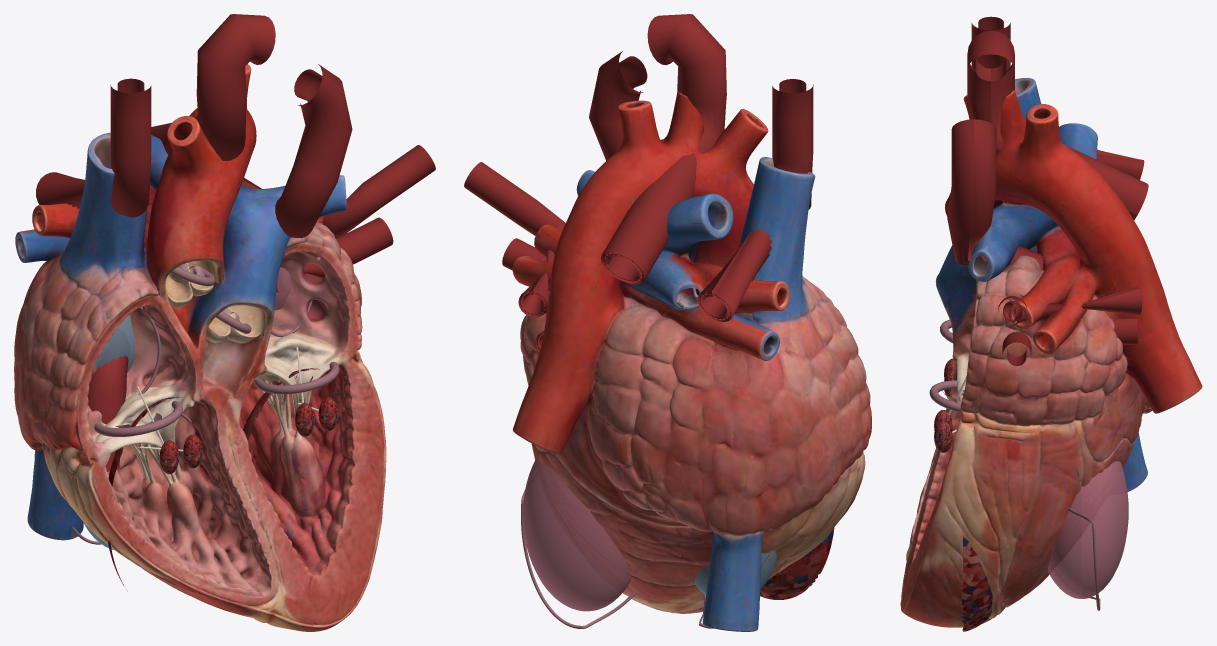
Rendered from heart_segmented_aortic_leaky.glb.
3 views of the same model, side by side, from view 1: azimuth 30°, elevation 25°; view 2: azimuth 150°, elevation 25°; view 3: azimuth 270°, elevation 25° (orthographic). The views are drawn at different scales.
Parts seen in each view (by area): view 1: HeartBody, PulmonaryTrunk, Aorta, SVC, PulmonaryVeinL, IVC, PulmonaryVeinR, BloodRA, AnnulusTricuspid, AnnulusMitral; view 2: HeartBody, Aorta, BloodLV, SVC, PulmonaryVeinL, PulmonaryTrunk, WallRV, CavityLipLV, PulmonaryVeinR, BloodRV; view 3: HeartBody, BloodLV, PulmonaryTrunk, Aorta, WallLV, PulmonaryVeinL, SVC, PulmonaryVeinR, AnnulusMitral, PapillaryMitral2, CavityLipLV.
Boxes of the visible parts, left/top/right/bottom form: HeartBody: left=14, top=64, right=386, bottom=631; PulmonaryTrunk: left=275, top=64, right=352, bottom=237; Aorta: left=151, top=14, right=275, bottom=160; SVC: left=36, top=78, right=151, bottom=217; PulmonaryVeinL: left=242, top=145, right=435, bottom=236; IVC: left=87, top=329, right=129, bottom=471; PulmonaryVeinR: left=276, top=217, right=393, bottom=292; BloodRA: left=95, top=315, right=134, bottom=372; AnnulusTricuspid: left=94, top=401, right=182, bottom=436; AnnulusMitral: left=254, top=361, right=339, bottom=394; HeartBody: left=512, top=91, right=871, bottom=631; Aorta: left=601, top=14, right=726, bottom=284; BloodLV: left=523, top=458, right=631, bottom=611; SVC: left=697, top=79, right=813, bottom=321; PulmonaryVeinL: left=464, top=162, right=565, bottom=317; PulmonaryTrunk: left=589, top=51, right=647, bottom=160; WallRV: left=760, top=528, right=834, bottom=599; CavityLipLV: left=521, top=479, right=635, bottom=628; PulmonaryVeinR: left=502, top=238, right=546, bottom=352; BloodRV: left=695, top=551, right=776, bottom=594; HeartBody: left=900, top=77, right=1202, bottom=627; BloodLV: left=1047, top=461, right=1128, bottom=598; PulmonaryTrunk: left=947, top=119, right=1043, bottom=269; Aorta: left=967, top=30, right=1148, bottom=220; WallLV: left=961, top=390, right=992, bottom=631; PulmonaryVeinL: left=998, top=286, right=1142, bottom=326; SVC: left=971, top=16, right=1144, bottom=179; PulmonaryVeinR: left=1002, top=319, right=1137, bottom=366; AnnulusMitral: left=929, top=380, right=960, bottom=412; PapillaryMitral2: left=934, top=420, right=952, bottom=452; CavityLipLV: left=1068, top=507, right=1100, bottom=610.
Size of the model in its own units: 0.0997 by 0.1465 by 0.0701.
Materials: 10 (4 with a texture image).
